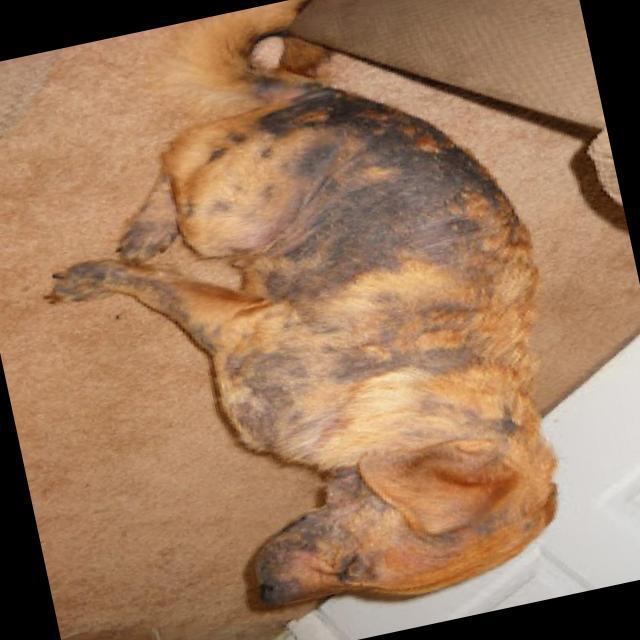mange: (235, 88, 531, 459)
